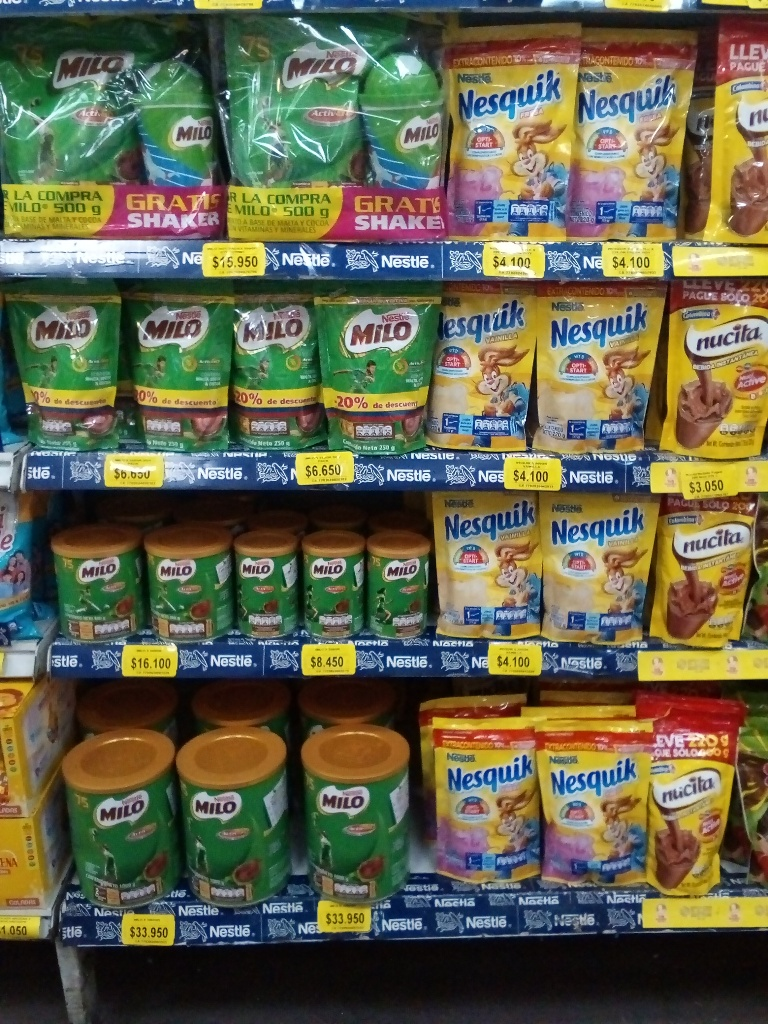COL0170203LAT20000: (231, 529, 296, 640)
COL0170203LAT40000: (38, 524, 144, 643)
